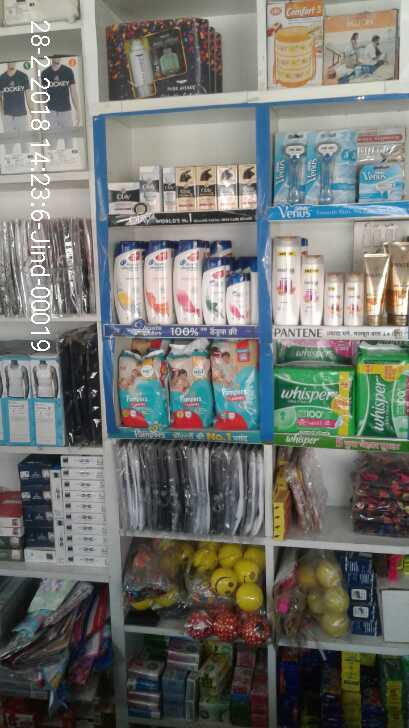venus: (315, 133, 358, 204), (271, 133, 315, 202), (358, 162, 406, 204)
